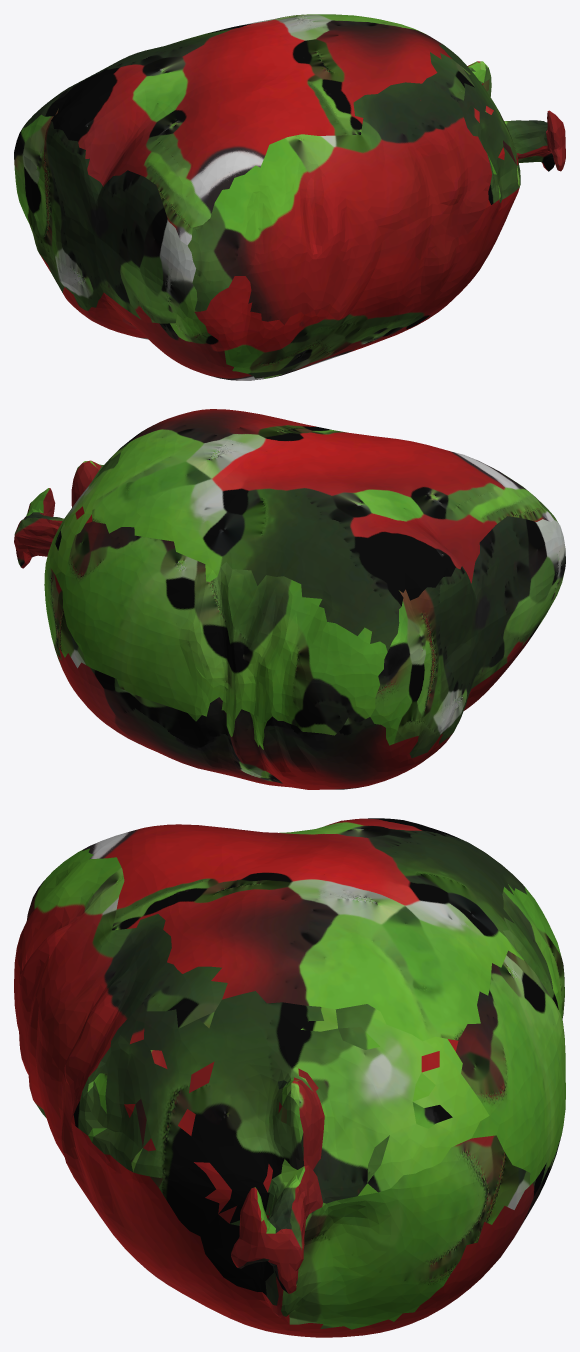
The model's file is sample.obj.
3 renders of one model, top to bottom at view 1: azimuth 30°, elevation 25°; view 2: azimuth 150°, elevation 25°; view 3: azimuth 270°, elevation 25°, orthographic. The views are drawn at different scales.
Parts seen in each view (by area): view 1: sample.obj; view 2: sample.obj; view 3: sample.obj.
Boxes of the visible parts, box(x1,y1,x2,y2) form: sample.obj: box(14, 14, 565, 380); sample.obj: box(14, 409, 565, 789); sample.obj: box(14, 818, 565, 1337).
Size of the model in its own units: 0.095 by 0.06 by 0.073.
